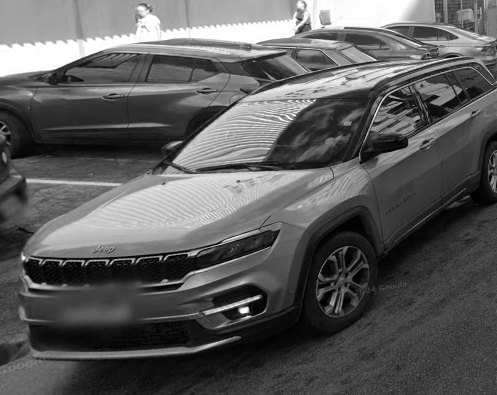car: (22, 58, 495, 358)
